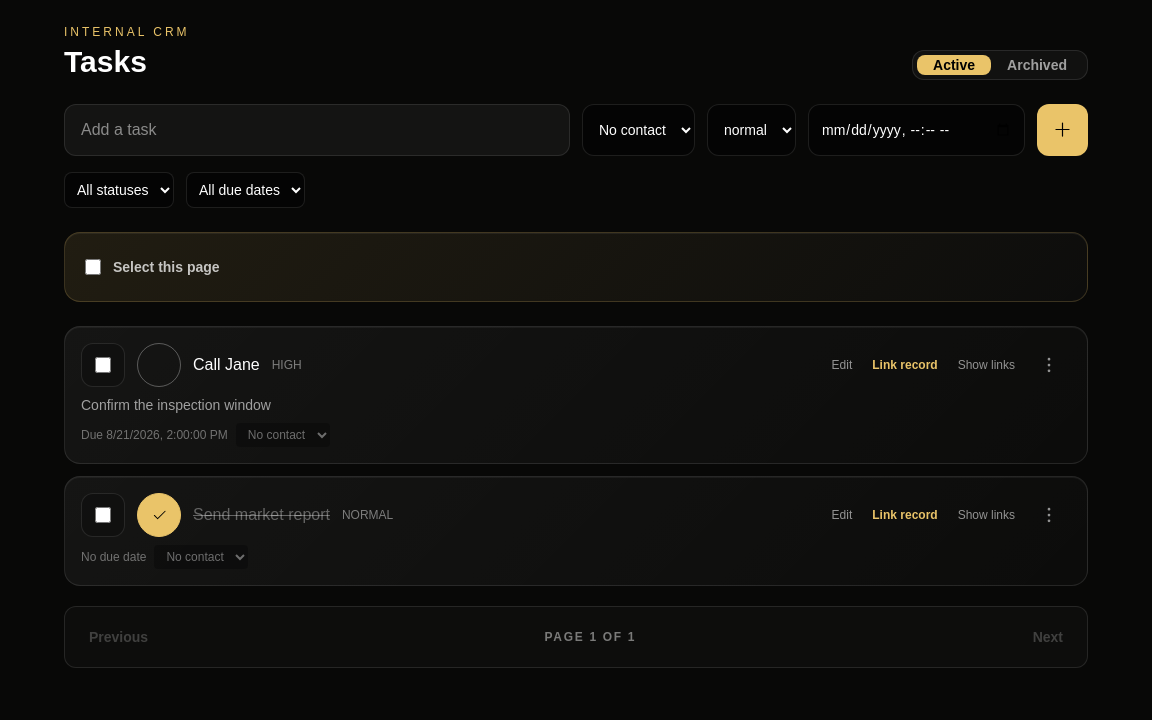
Test case: TasksWorkspace archive lifecycle › gives selection inputs mobile touch dimensions while retaining compact desktop controls
Expected: the text "Call Jane" is shown, [193, 352, 260, 377]
Click the checkbox named "Select Call Jane" at point(103, 365), box [95, 357, 111, 373]
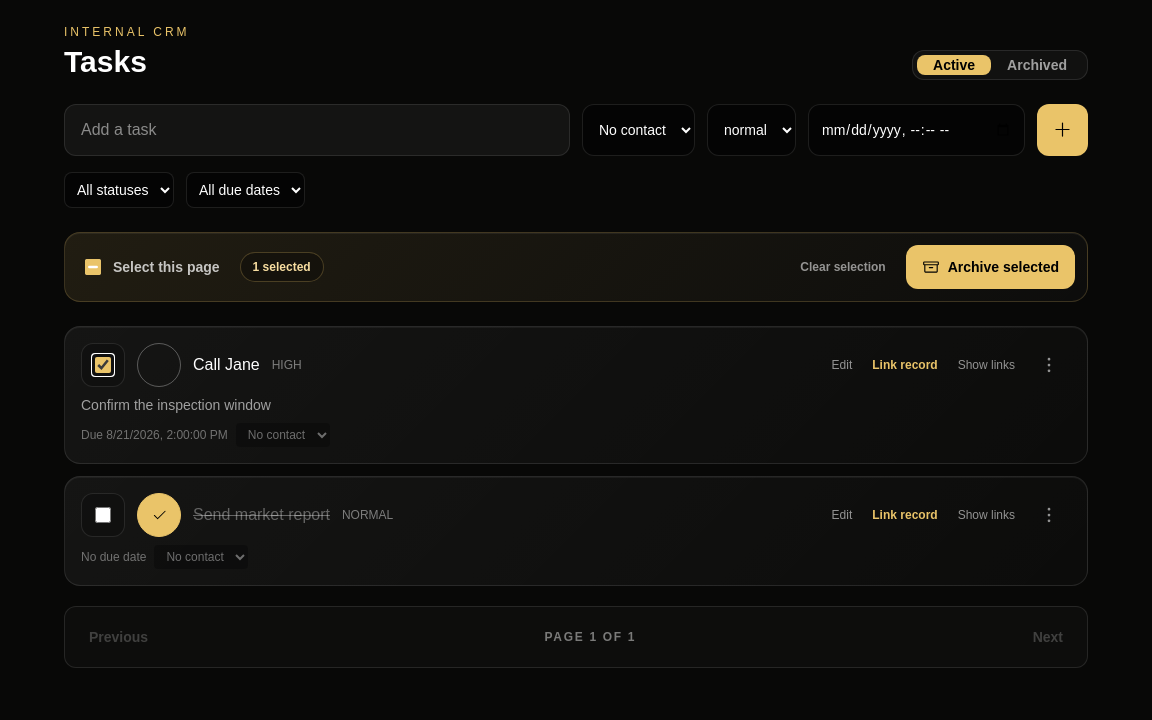
Result: the checkbox named "Select Call Jane" is checked at [95, 357, 111, 373]
Click the checkbox labelled "Select this page" at point(93, 267), box [85, 259, 101, 275]
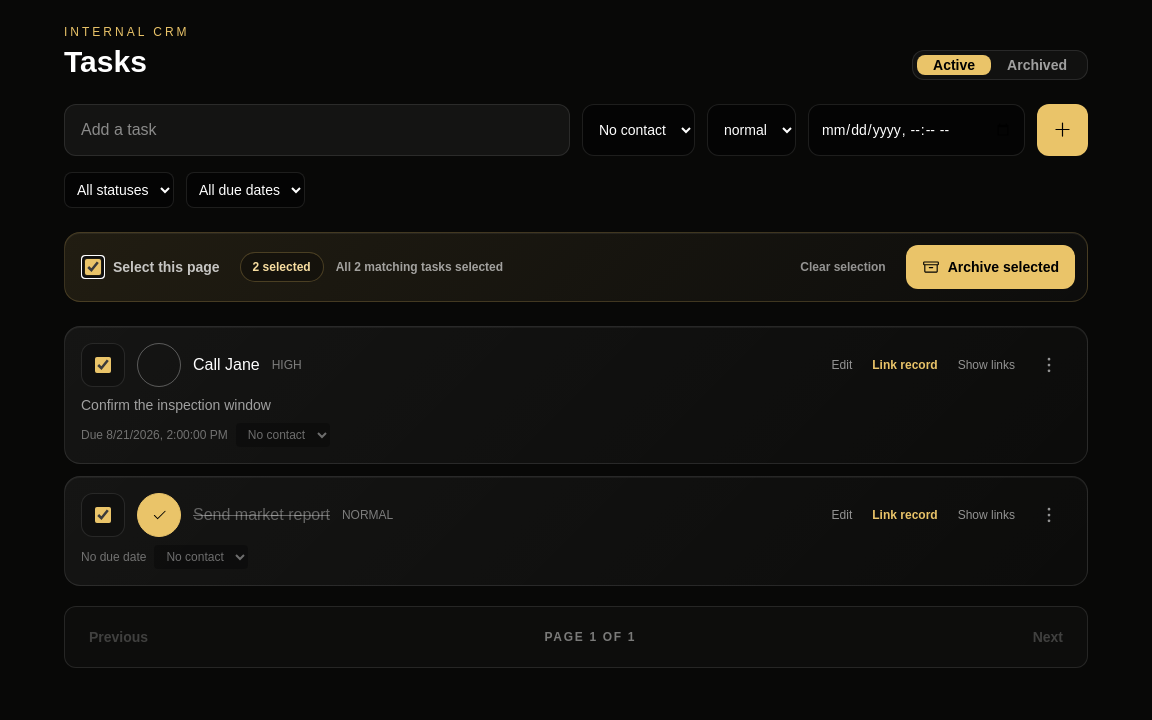
Result: the checkbox labelled "Select this page" is checked at [85, 259, 101, 275]
Result: the checkbox named "Select Send market report" is checked at [95, 507, 111, 523]
